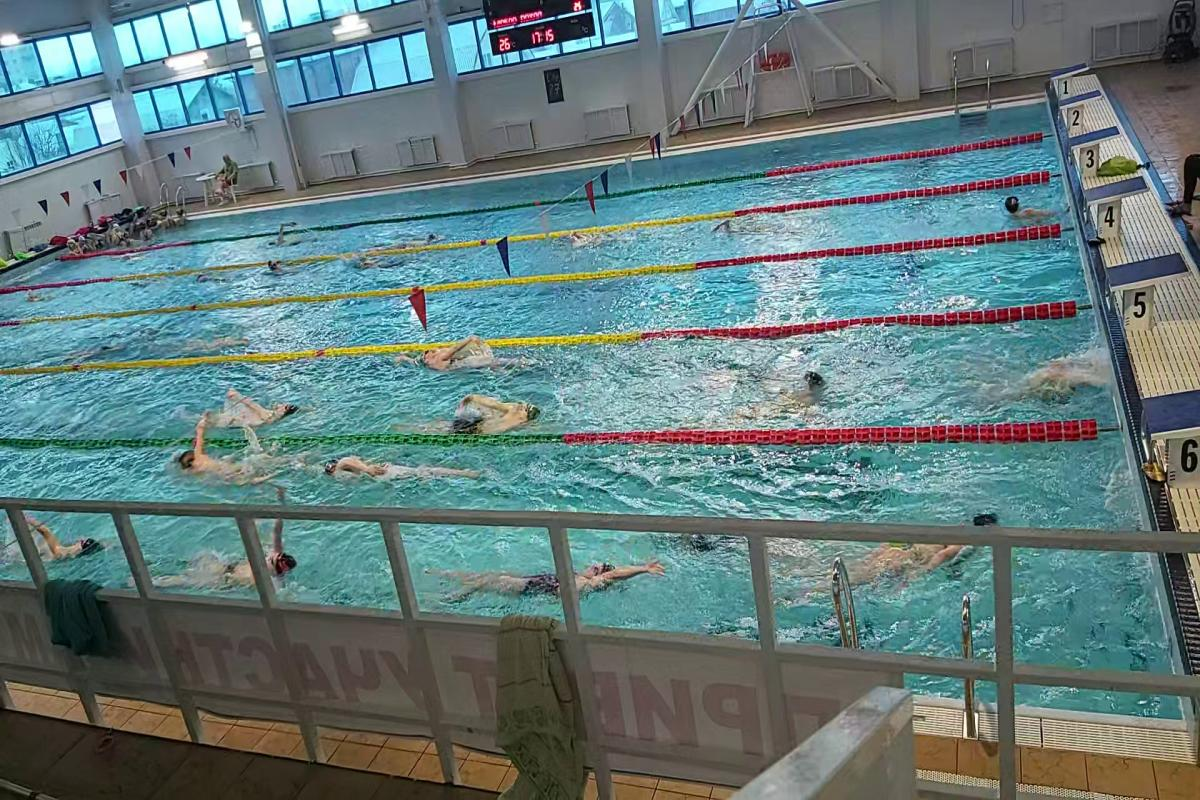swimmer: (441, 553, 679, 605), (325, 447, 481, 495), (157, 542, 311, 588), (184, 372, 303, 429), (981, 353, 1094, 412), (838, 547, 968, 592), (422, 384, 548, 430), (750, 356, 829, 427), (0, 525, 116, 569), (393, 342, 528, 374), (172, 450, 257, 492), (996, 190, 1056, 224), (263, 221, 309, 255), (265, 256, 291, 280)
